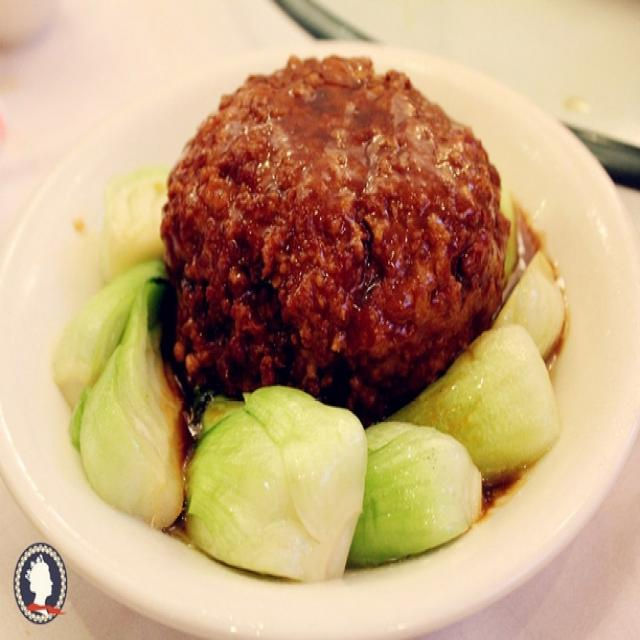meatball: (132, 33, 521, 444)
